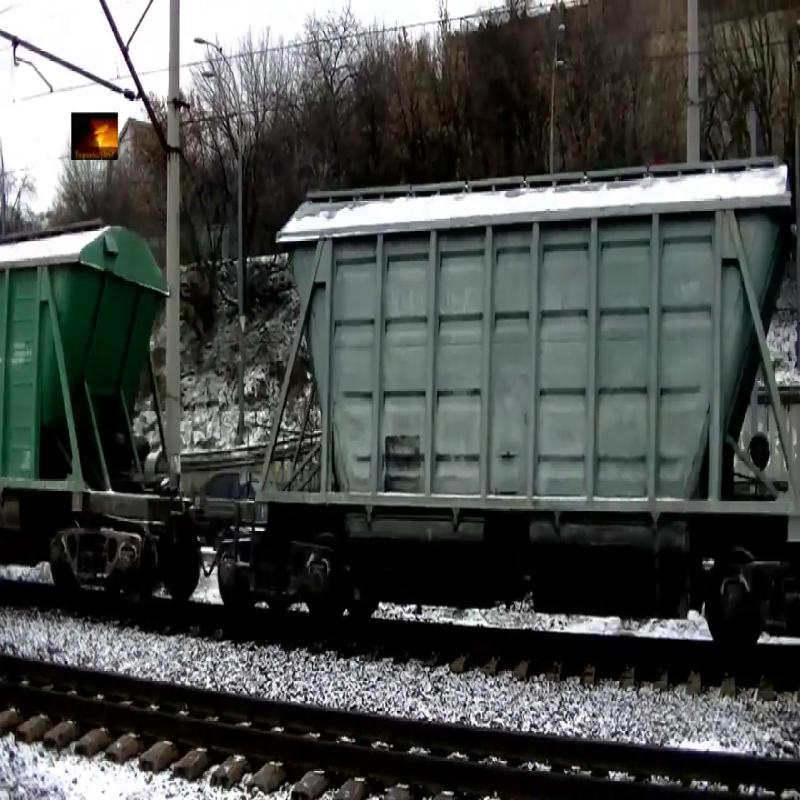train: (254, 151, 798, 565), (2, 213, 181, 555)
